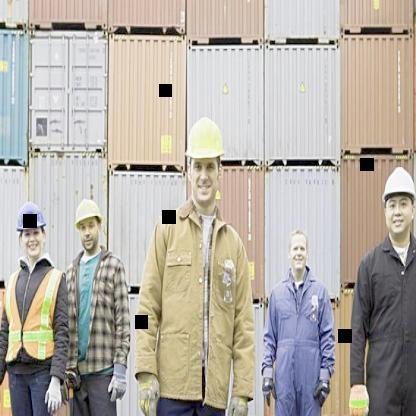head: (284, 225, 314, 279)
helmet: (187, 116, 225, 210), (382, 167, 416, 239), (16, 202, 46, 259), (75, 199, 103, 251)
